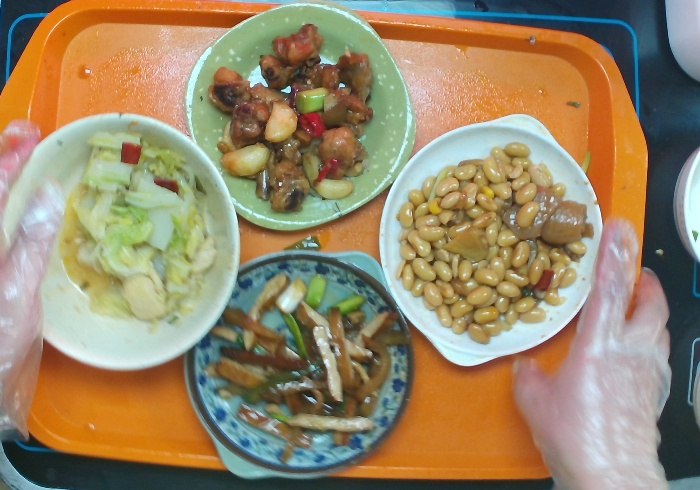NLDX-Bai_Se_Shuang_Er_Die: (376, 109, 607, 369)
NLDX-Bai_Se_Yuan_Wan: (1, 110, 244, 375)
NLDX-Lv_Hua_Fang_Die: (182, 1, 418, 235)
NLDX-Qing_Hua_Shuang_Er_Die: (180, 249, 419, 482)
